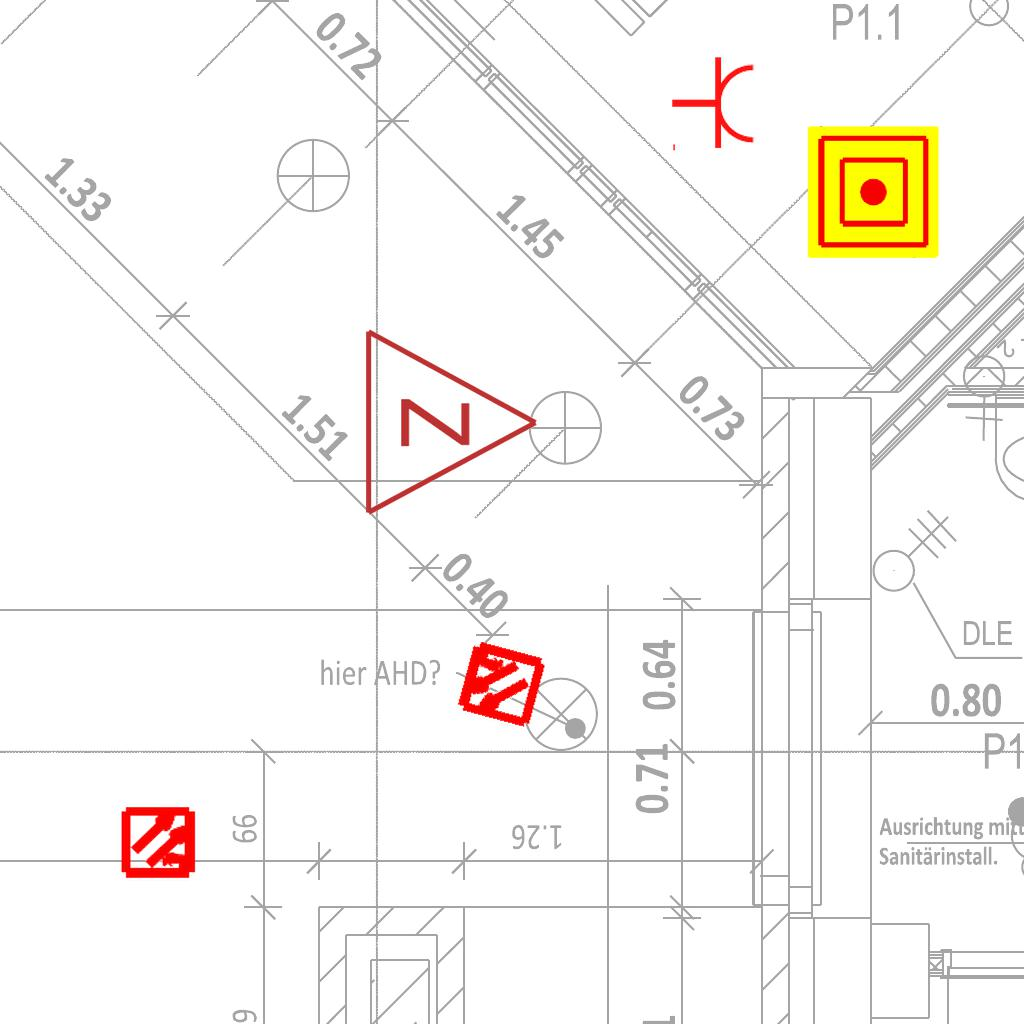NAM-Nichtautomatischer_Melder: (807, 126, 939, 258)
OT_Multisensormelder_(Kombination_RMO_WMD): (430, 614, 569, 753), (104, 786, 217, 899)
Schukosteckdose_einfach: (670, 55, 757, 155)
Zimmersignalleuchte: (351, 322, 551, 518)
